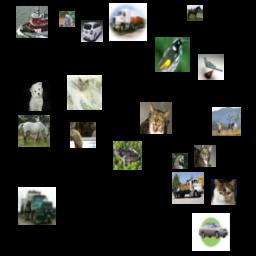airplane: (198, 54, 224, 80)
automobile: (192, 213, 230, 251), (81, 20, 103, 42)
bird: (155, 37, 190, 72)
cat: (67, 75, 102, 110), (140, 102, 172, 134), (211, 179, 237, 205), (70, 122, 96, 148), (194, 145, 216, 167), (59, 11, 75, 27)
deer: (212, 107, 241, 136)
dog: (22, 82, 51, 111)
frog: (113, 141, 142, 170)
ship: (16, 6, 48, 38)
truck: (18, 187, 56, 225), (109, 3, 147, 41), (172, 172, 204, 204)
